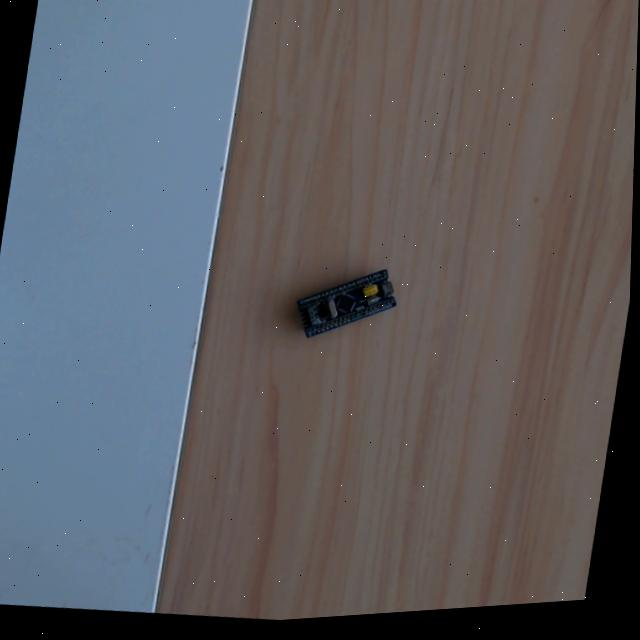STM32-Bluepill: (292, 265, 402, 341)
